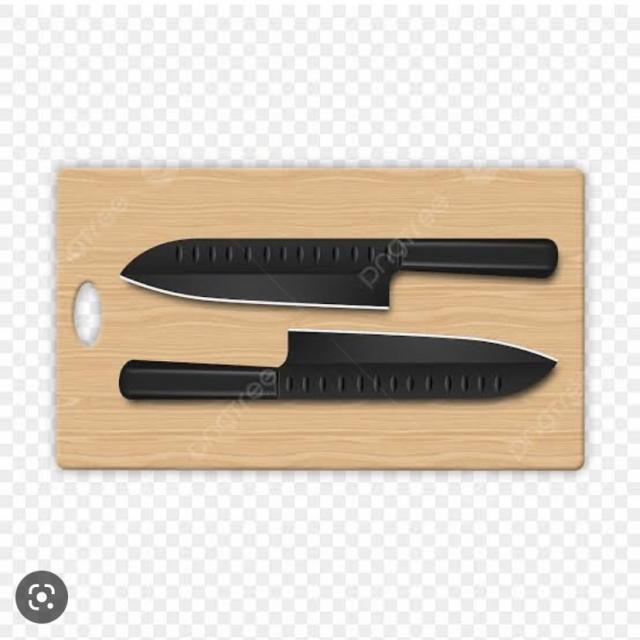Knife: (93, 194, 572, 428)
